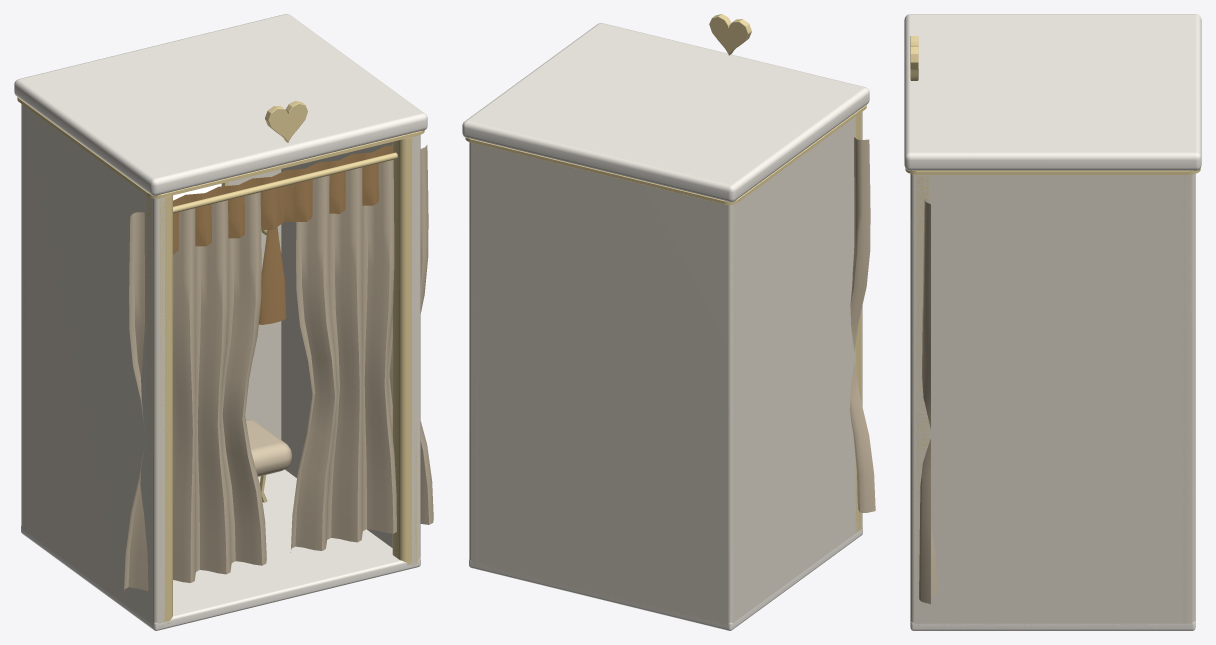
Rendered from fitting_room_curtain.glb.
3 renders of one model, left to right at view 1: azimuth 30°, elevation 25°; view 2: azimuth 150°, elevation 25°; view 3: azimuth 270°, elevation 25°, orthographic. The views are drawn at different scales.
Parts seen in each view (by area): view 1: fitting_room_curtain; view 2: fitting_room_curtain; view 3: fitting_room_curtain.
Part boxes in pixels (box(x1,y1,x2,y2)): fitting_room_curtain: box(14, 14, 433, 630); fitting_room_curtain: box(462, 14, 875, 630); fitting_room_curtain: box(904, 14, 1201, 630).
Size of the model in its own units: 1.86 by 2.83 by 1.46.
